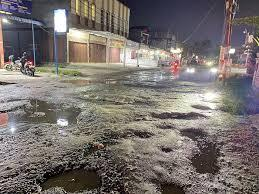Pothole: (25, 147, 122, 194), (0, 90, 91, 136), (177, 125, 232, 176), (77, 84, 162, 107), (144, 102, 204, 129), (101, 64, 167, 86), (105, 122, 150, 142), (142, 174, 183, 194), (193, 97, 226, 113), (151, 118, 176, 134), (155, 144, 175, 160)
